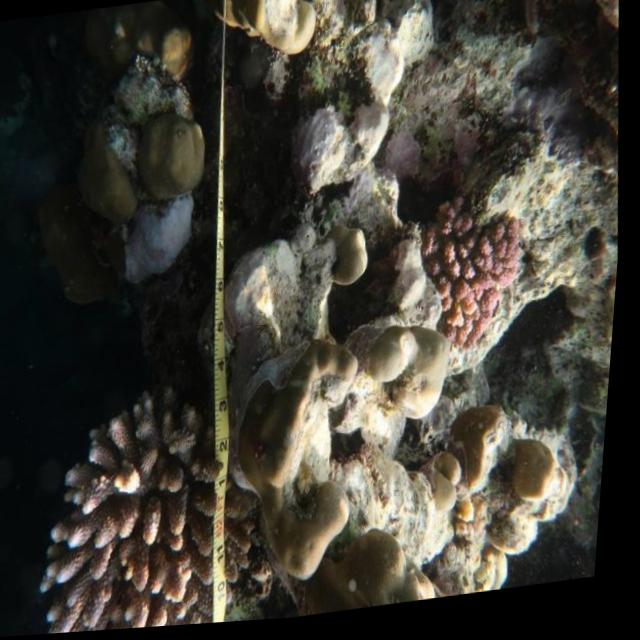Healthy Coral: (30, 393, 252, 636), (233, 348, 379, 594), (417, 182, 537, 366), (126, 100, 219, 222)
